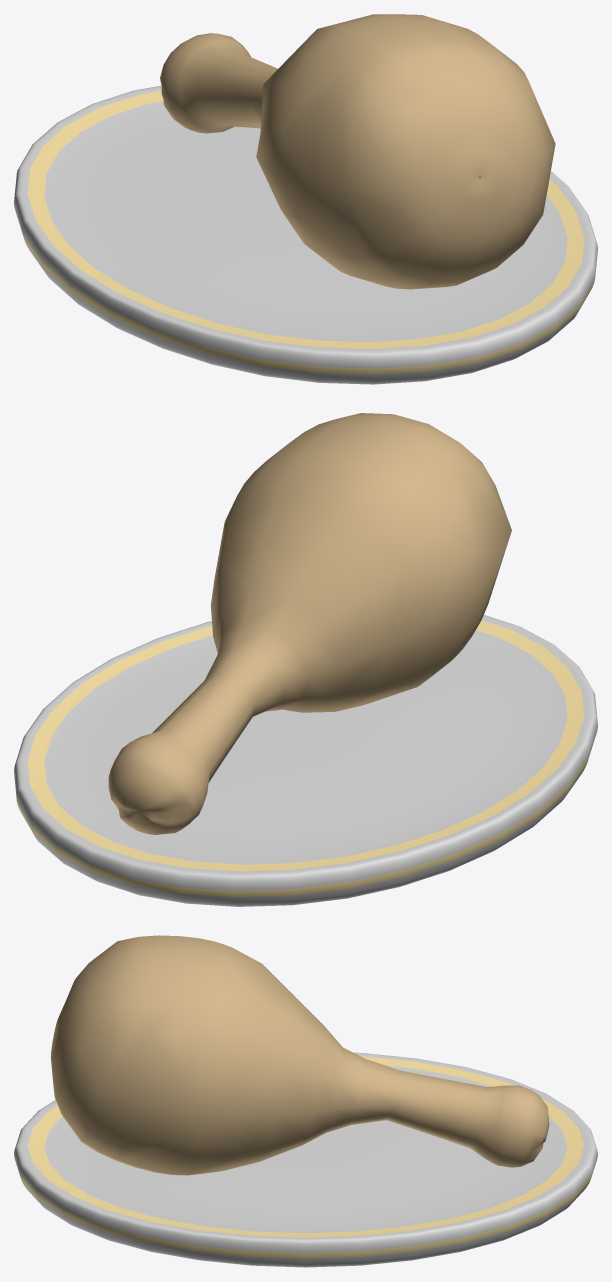
The model's file is chicken.fbx.
3 renders of one model, top to bottom at view 1: azimuth 30°, elevation 25°; view 2: azimuth 150°, elevation 25°; view 3: azimuth 270°, elevation 25°, orthographic. The views are drawn at different scales.
Visible parts, largest first — view 1: chicken; view 2: chicken; view 3: chicken.
Boxes of the visible parts, x1,y1,x2,y2 form: chicken: [14, 14, 597, 384]; chicken: [14, 413, 597, 906]; chicken: [14, 935, 597, 1267].
Size of the model in its own units: 20.92 by 12.59 by 26.81.
